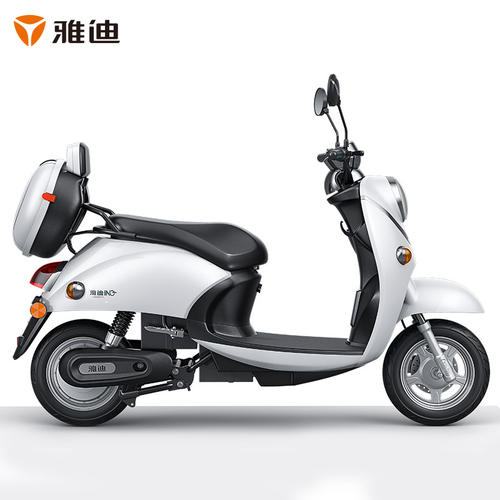电动车: (9, 70, 492, 439)
